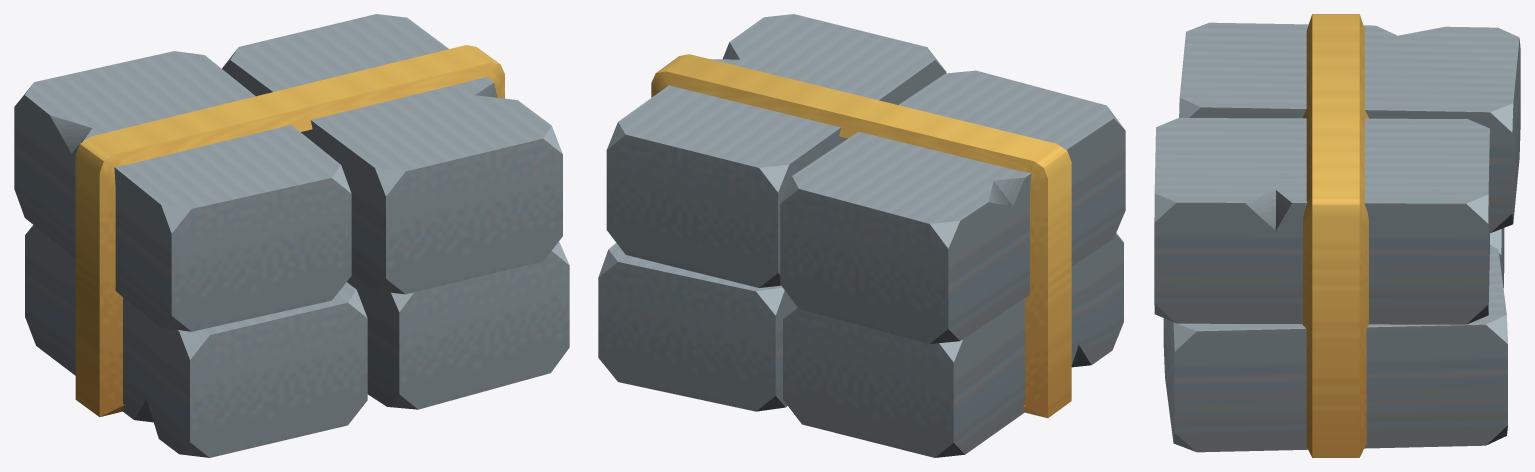
The model's file is Stone_Bricks_Stack_Small.gltf.
The picture shows the model from 3 angles, left to right: view 1: azimuth 30°, elevation 25°; view 2: azimuth 150°, elevation 25°; view 3: azimuth 270°, elevation 25°; orthographic projection. The views are drawn at different scales.
Parts seen in each view (by area): view 1: Stone_Bricks_Stack_Small; view 2: Stone_Bricks_Stack_Small; view 3: Stone_Bricks_Stack_Small.
Part boxes in pixels (box(x1,y1,x2,y2)): Stone_Bricks_Stack_Small: box(14, 14, 569, 457); Stone_Bricks_Stack_Small: box(598, 14, 1125, 457); Stone_Bricks_Stack_Small: box(1154, 14, 1520, 457).
Size of the model in its own units: 1.04 by 0.6332 by 0.8222.
Materials: 1 (1 with a texture image).
